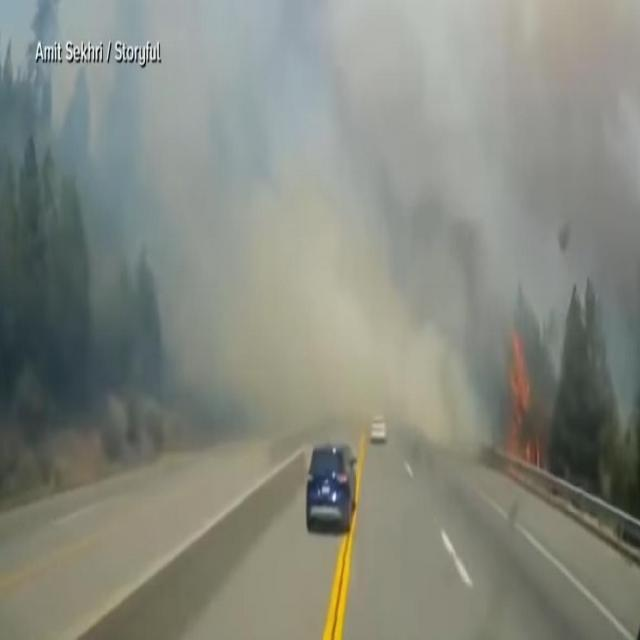Fire: (504, 330, 542, 468)
